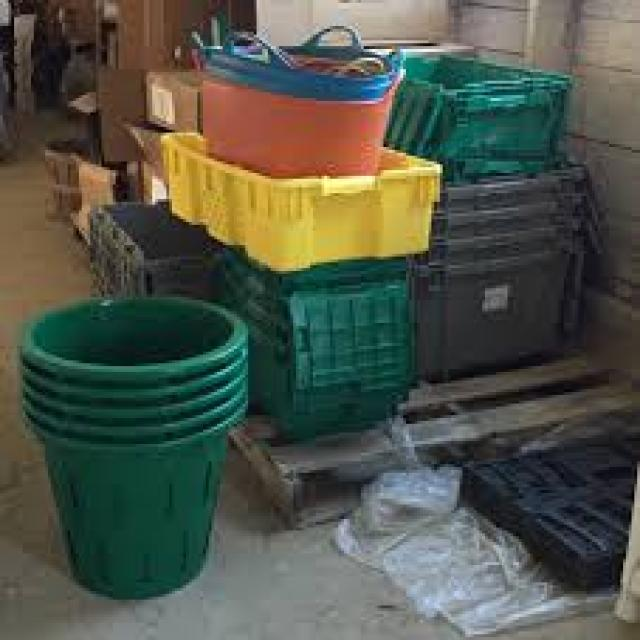basket: (23, 300, 248, 600), (150, 130, 446, 288), (223, 240, 417, 443), (414, 166, 585, 382), (381, 43, 586, 204), (90, 205, 223, 303)
